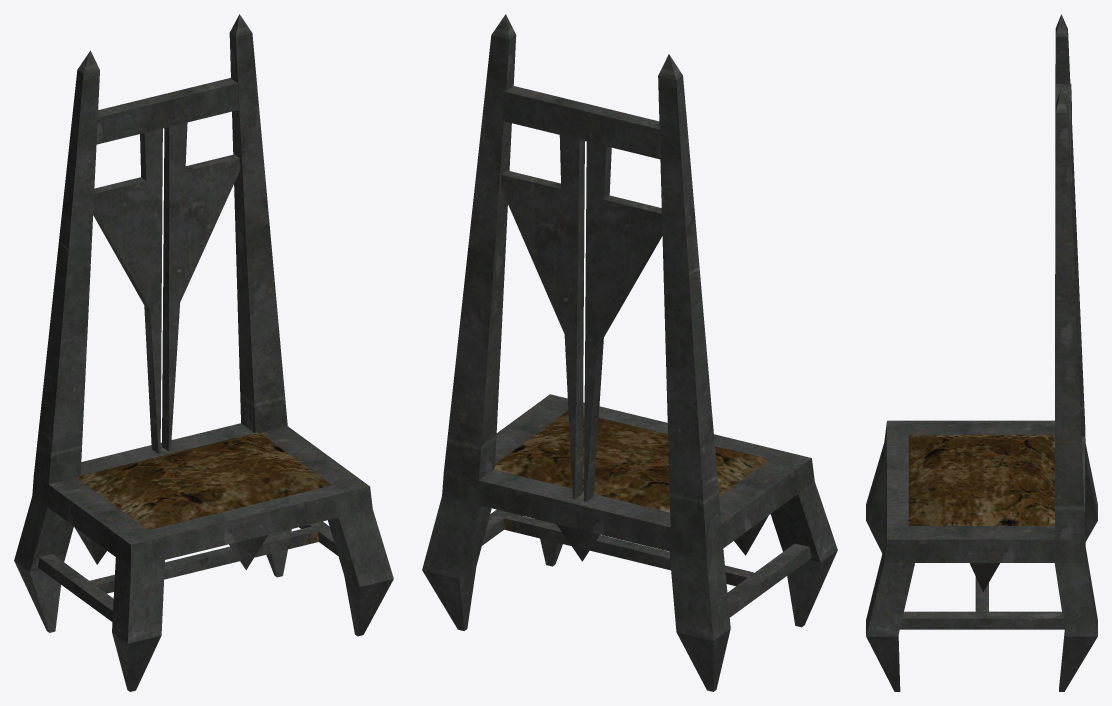
The model's file is frn_jedi_dark_chair_s02_l0.fbx.
3 views of the same model, side by side, from view 1: azimuth 30°, elevation 25°; view 2: azimuth 150°, elevation 25°; view 3: azimuth 270°, elevation 25° (orthographic). The views are drawn at different scales.
Visible parts, largest first — view 1: mesh_node; view 2: mesh_node; view 3: mesh_node.
Part boxes in pixels (x1,y1,x2,y2): mesh_node: (14,14,393,691); mesh_node: (422,14,837,691); mesh_node: (866,14,1097,691).
Bounding box in the file's own units: 0.7491 × 1.54 × 0.5538.
